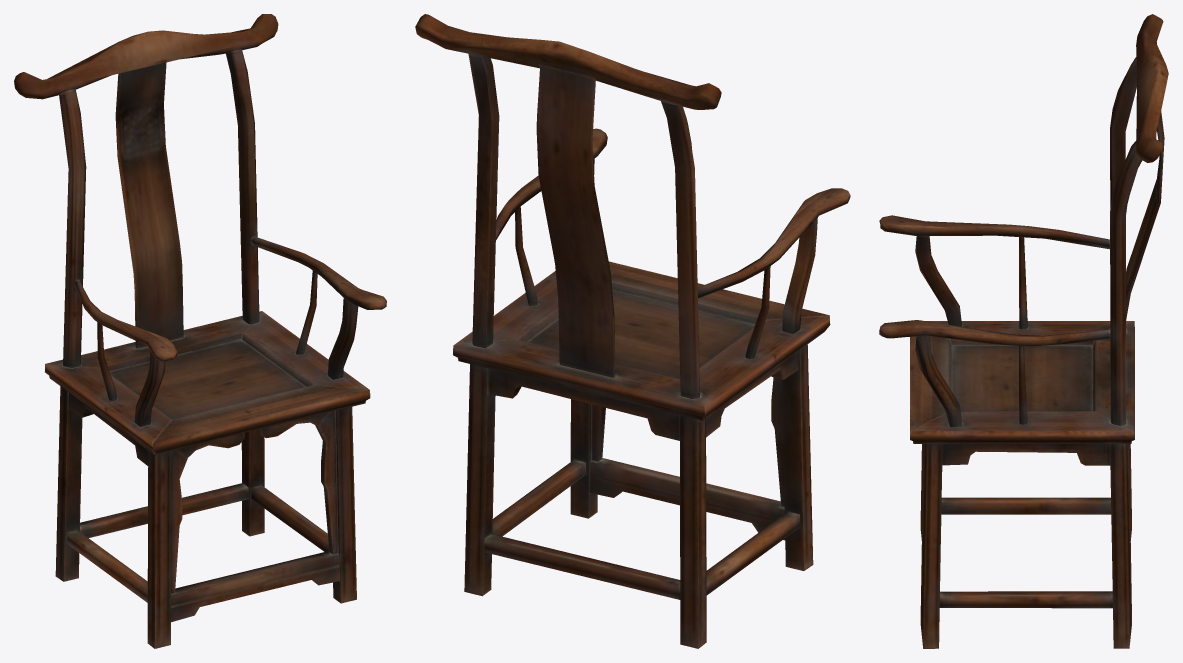
Rendered from chinese_armchair.glb.
3 views of the same model, side by side, from view 1: azimuth 30°, elevation 25°; view 2: azimuth 150°, elevation 25°; view 3: azimuth 270°, elevation 25° (orthographic). The views are drawn at different scales.
Parts seen in each view (by area): view 1: chinese_armchair; view 2: chinese_armchair; view 3: chinese_armchair.
Part boxes in pixels (x1,y1,x2,y2): chinese_armchair: (14,14,386,648); chinese_armchair: (415,14,850,648); chinese_armchair: (879,14,1168,648).
Bounding box in the file's own units: 0.8483 × 1.59 × 0.7878.
Materials: 1 (1 with a texture image).
